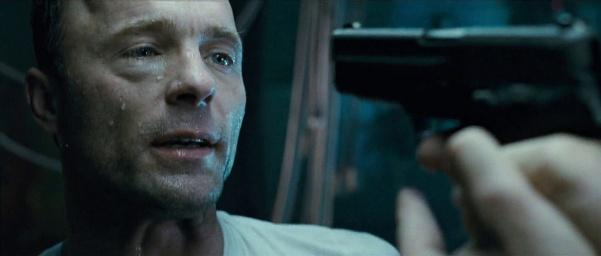Gun: (331, 17, 601, 147)
